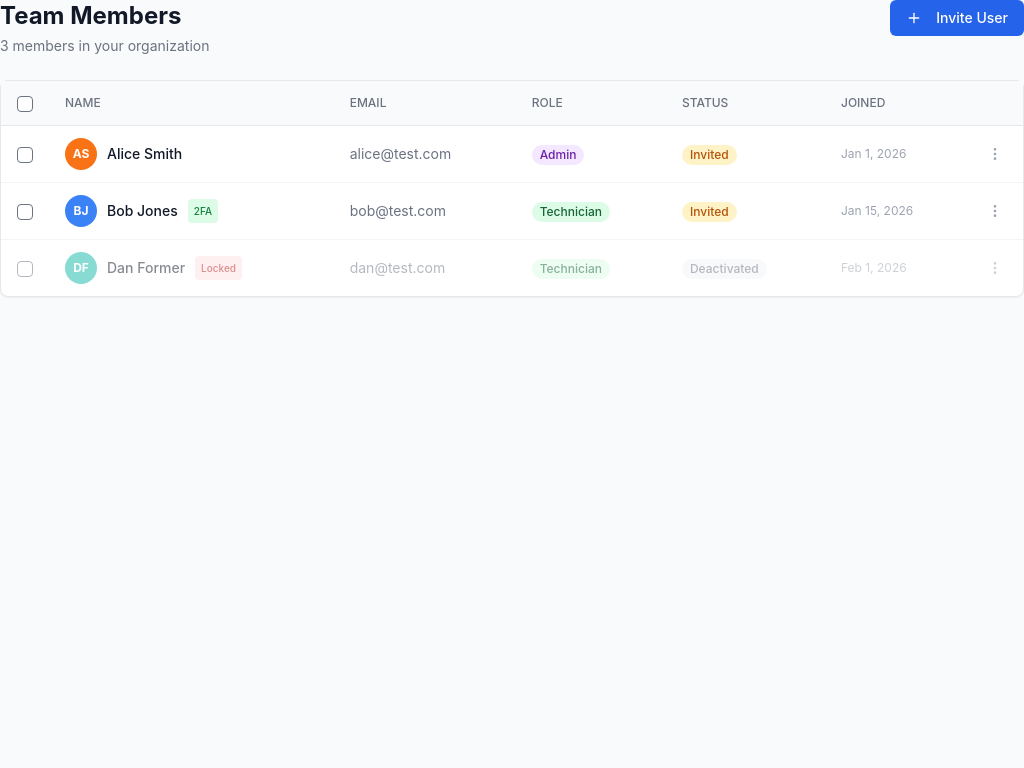
Test: UsersPage › opens invite modal on button click
Click the button "Invite User" at x=957, y=18, box [890, 0, 1023, 36]
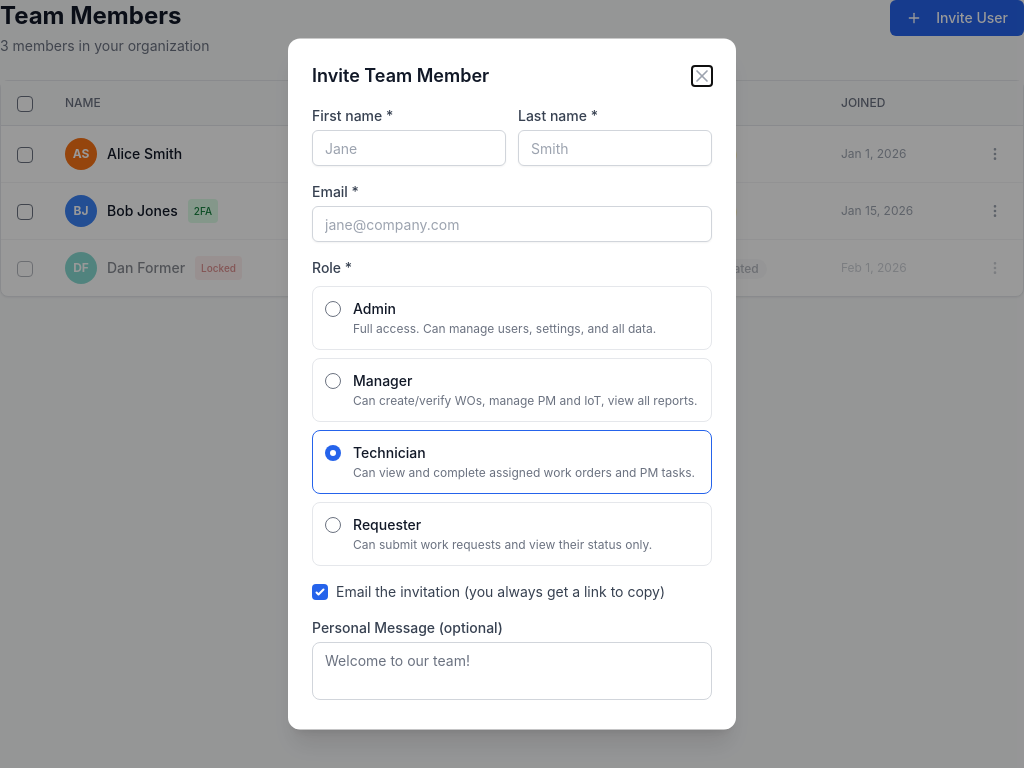
Expected: the heading "Invite Team Member" is shown, [312, 62, 489, 90]
